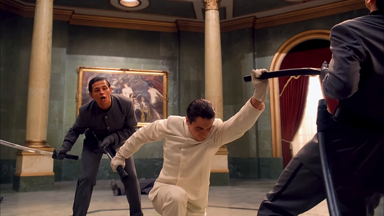bladed_weapon: (90, 129, 130, 184), (0, 137, 80, 162), (241, 64, 327, 85)
